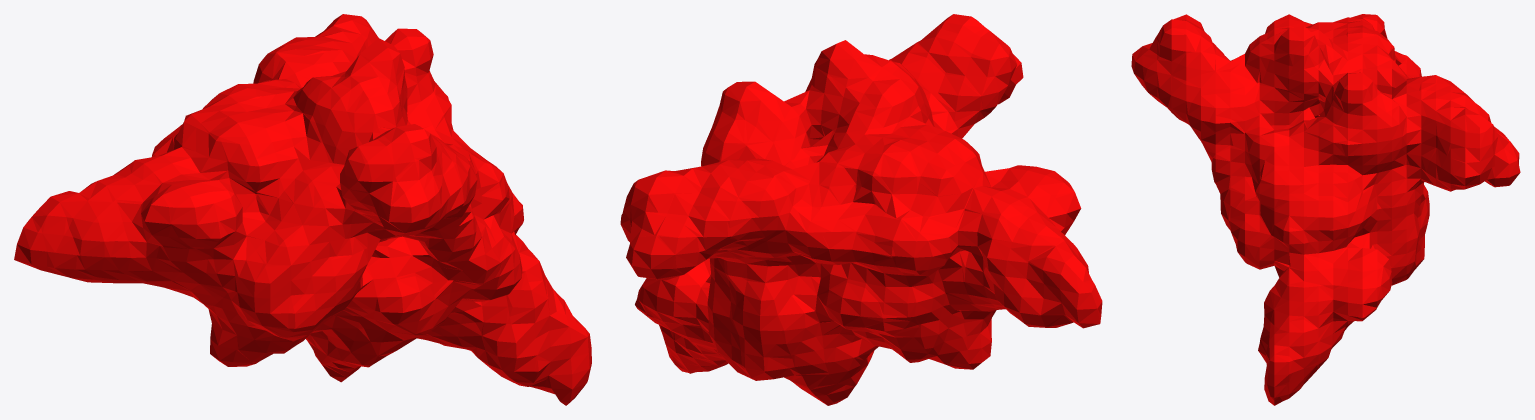
Rendered from dnaK_coarse.dae.
3 renders of one model, left to right at view 1: azimuth 30°, elevation 25°; view 2: azimuth 150°, elevation 25°; view 3: azimuth 270°, elevation 25°, orthographic. The views are drawn at different scales.
Parts seen in each view (by area): view 1: dnaK; view 2: dnaK; view 3: dnaK.
Part boxes in pixels (x1=…): dnaK: x1=14, y1=14, x2=591, y2=405; dnaK: x1=620, y1=14, x2=1102, y2=405; dnaK: x1=1131, y1=14, x2=1520, y2=405.
Size of the model in its own units: 134 by 98.55 by 110.
